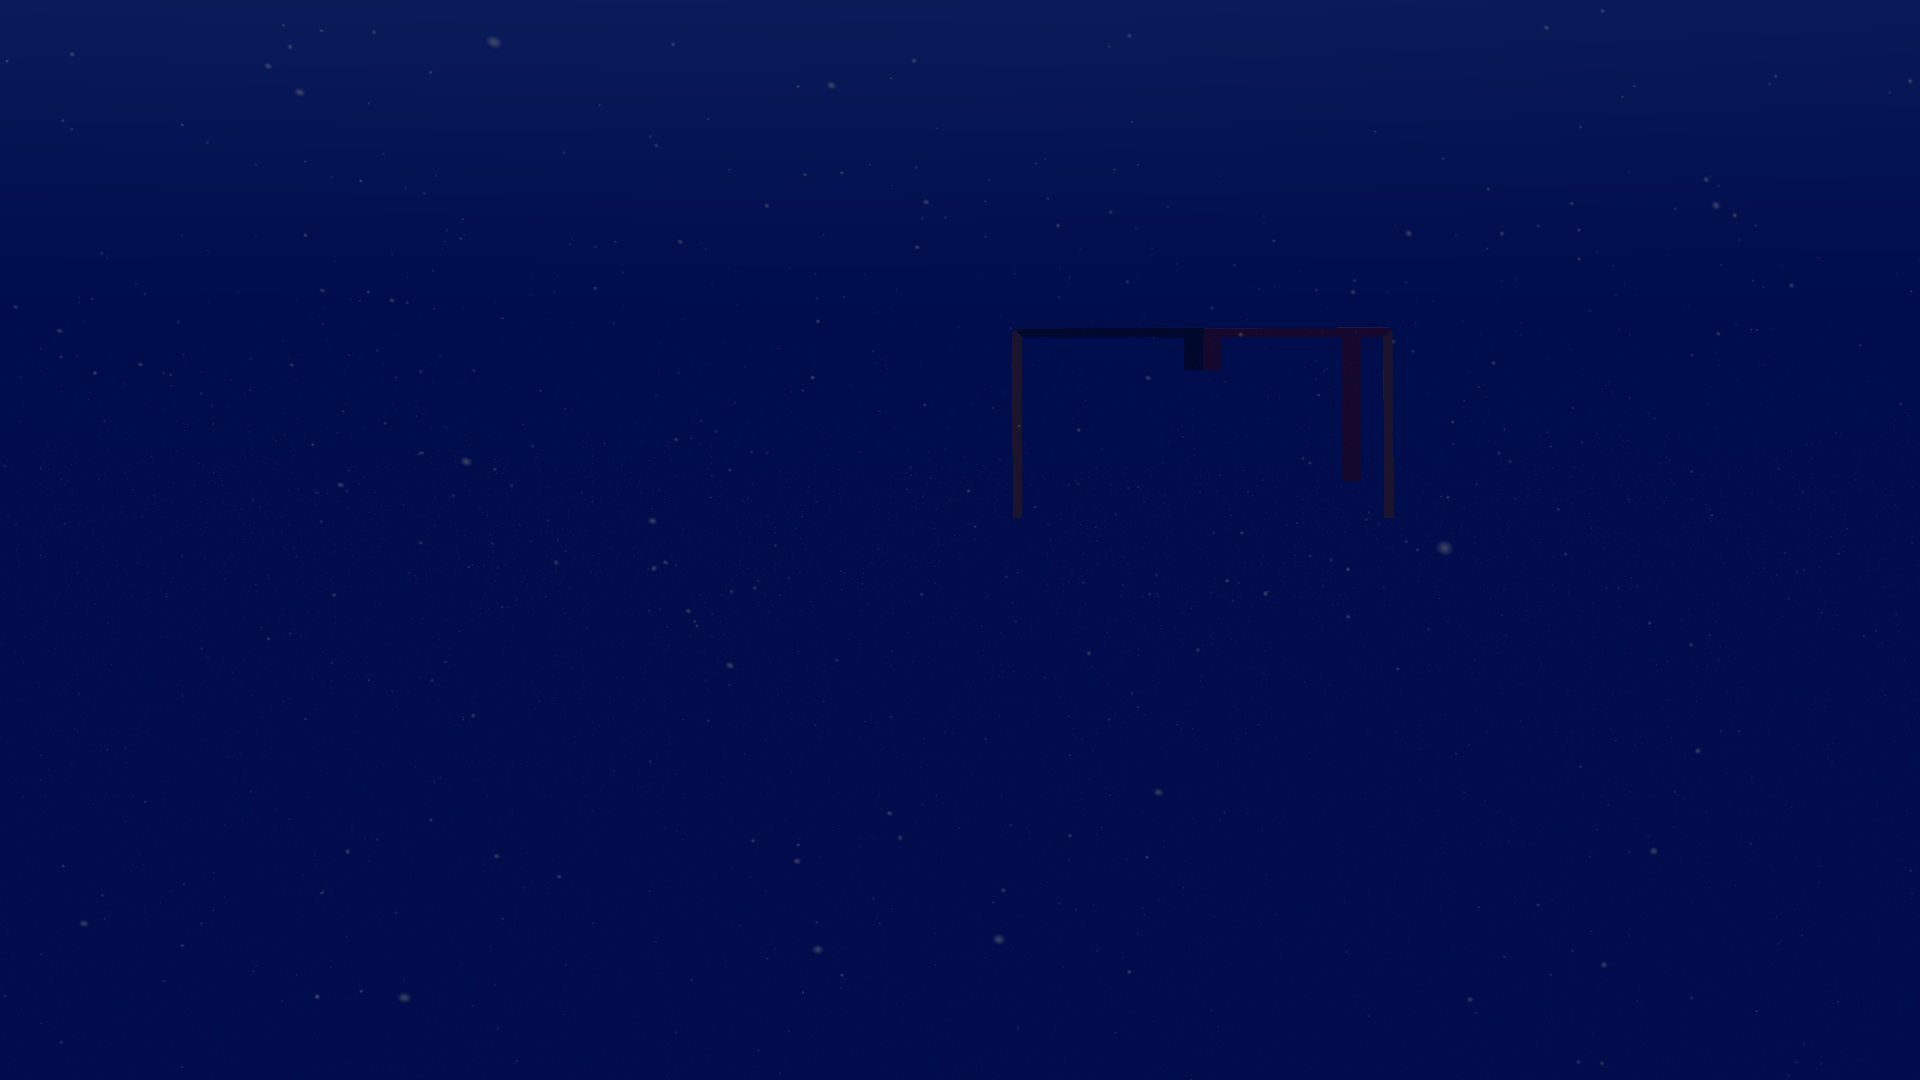Gate: (1004, 316, 1406, 535)
